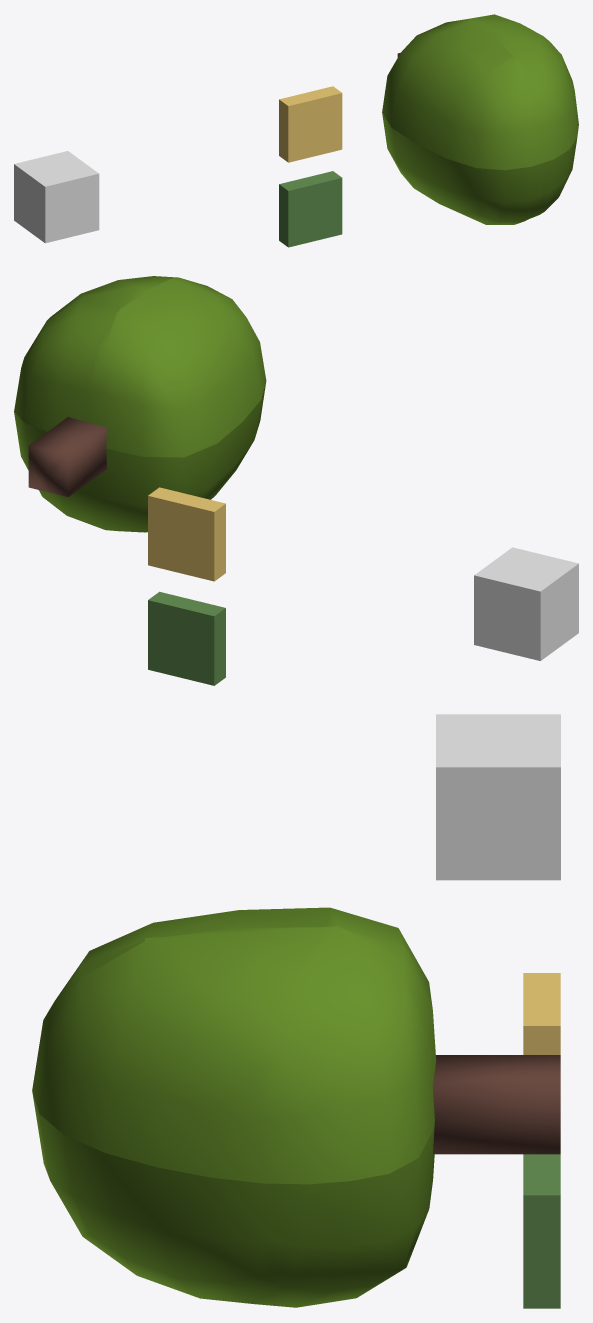
File: tiles.glb
3 renders of one model, top to bottom at view 1: azimuth 30°, elevation 25°; view 2: azimuth 150°, elevation 25°; view 3: azimuth 270°, elevation 25°, orthographic. The views are drawn at different scales.
Parts seen in each view (by area): view 1: Big Tree.0, Big Tree.2, Cube.001, Big Tree.1, Sand, Grass, Big Tree.3; view 2: Big Tree.0, Big Tree.1, Big Tree.2, Cube.001, Sand, Grass, Big Tree.3; view 3: Big Tree.1, Big Tree.3, Cube.001, Big Tree.0, Grass, Sand.
Boxes of the visible parts, x1,y1,x2,y2 form: Big Tree.0: [382, 18, 544, 170]; Big Tree.2: [382, 113, 544, 224]; Cube.001: [14, 151, 99, 243]; Big Tree.1: [469, 14, 578, 162]; Sand: [279, 86, 342, 162]; Grass: [279, 171, 342, 247]; Big Tree.3: [532, 138, 577, 217]; Big Tree.0: [49, 277, 266, 476]; Big Tree.1: [14, 276, 177, 471]; Big Tree.2: [49, 383, 265, 532]; Cube.001: [474, 547, 578, 660]; Sand: [148, 487, 225, 581]; Grass: [148, 591, 225, 685]; Big Tree.3: [14, 412, 95, 526]; Big Tree.1: [36, 926, 560, 1184]; Big Tree.3: [36, 1106, 560, 1307]; Cube.001: [436, 714, 560, 880]; Big Tree.0: [32, 907, 560, 1103]; Grass: [523, 1154, 560, 1308]; Sand: [523, 973, 560, 1054].
Bounding box in the file's own units: 17.82 × 8.18 × 8.48.
